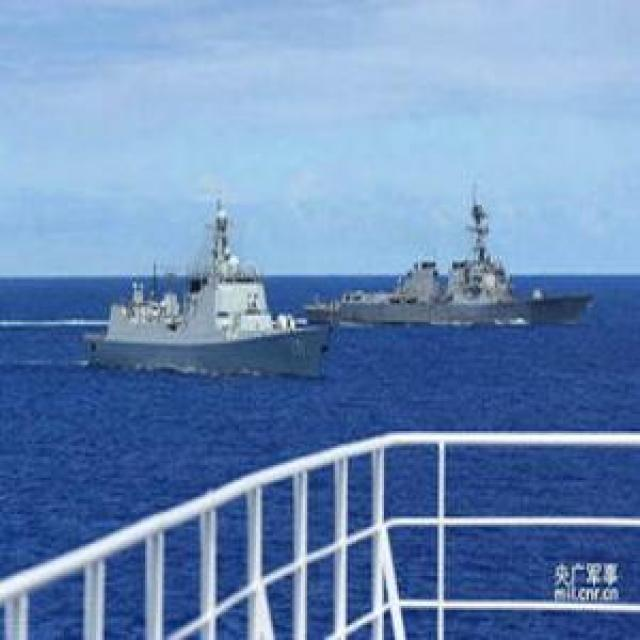navalvessels: (71, 191, 329, 376), (339, 191, 587, 341)
